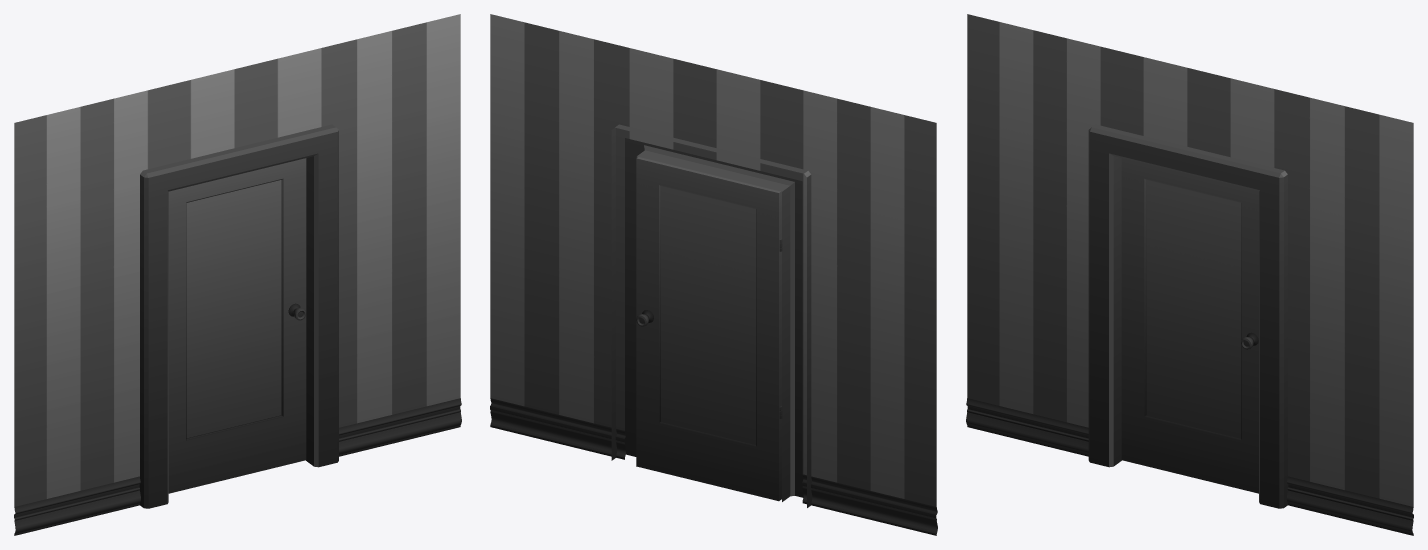
The model's file is Wall_03_Door_01.fbx.
The picture shows the model from 3 angles, left to right: view 1: azimuth 30°, elevation 25°; view 2: azimuth 150°, elevation 25°; view 3: azimuth 330°, elevation 25°; orthographic projection.
Visible parts, largest first — view 1: Wall_3, Door_01; view 2: Wall_3, Door_01; view 3: Wall_3, Door_01.
Part boxes in pixels (x1,y1,x2,y2): Wall_3: (14,14,461,535); Door_01: (168,158,306,493); Wall_3: (490,14,937,535); Door_01: (636,157,782,501); Wall_3: (966,14,1413,535); Door_01: (1121,158,1258,493).
Size of the model in its own units: 3 by 2.65 by 0.2141.
